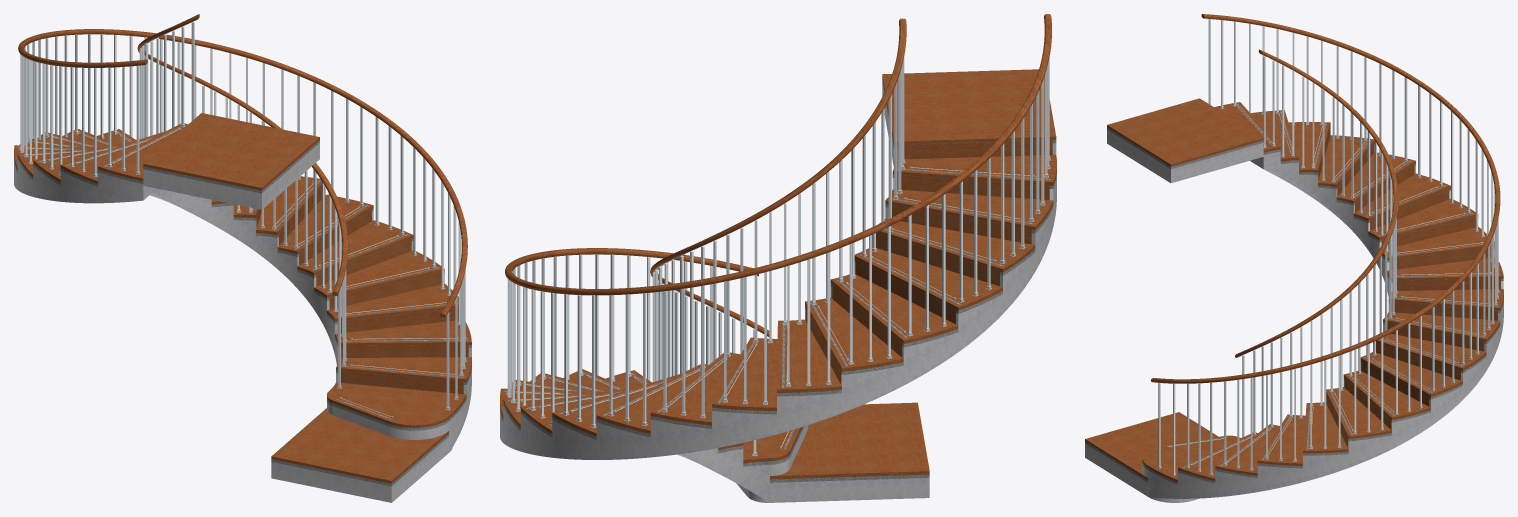
The model's file is curved-stair.glb.
3 views of the same model, side by side, from view 1: azimuth 30°, elevation 25°; view 2: azimuth 150°, elevation 25°; view 3: azimuth 270°, elevation 25° (orthographic). The views are drawn at different scales.
Parts seen in each view (by area): view 1: 木制面层, 弧形扶手, 楼梯承重基础层, 结合层, 防滑条, 地毯棍; view 2: 木制面层, 弧形扶手, 楼梯承重基础层, 结合层, 防滑条, 地毯棍; view 3: 木制面层, 弧形扶手, 楼梯承重基础层, 结合层, 防滑条, 地毯棍.
Boxes of the visible parts, x1,y1,x2,y2 form: 木制面层: (14, 113, 471, 483); 弧形扶手: (18, 14, 467, 410); 楼梯承重基础层: (14, 143, 471, 502); 结合层: (14, 140, 471, 486); 防滑条: (17, 126, 468, 419); 地毯棍: (27, 128, 458, 418); 木制面层: (500, 69, 1056, 479); 弧形扶手: (505, 14, 1051, 456); 楼梯承重基础层: (500, 82, 1056, 502); 结合层: (500, 79, 1056, 482); 防滑条: (504, 168, 1050, 449); 地毯棍: (516, 166, 1036, 448); 木制面层: (1085, 98, 1503, 482); 弧形扶手: (1151, 14, 1500, 475); 楼梯承重基础层: (1085, 127, 1503, 502); 结合层: (1085, 125, 1503, 484); 防滑条: (1167, 103, 1500, 467); 地毯棍: (1168, 106, 1491, 465).
Size of the model in its own units: 4.52 by 4.74 by 4.86.
Materials: 10 (5 with a texture image).
